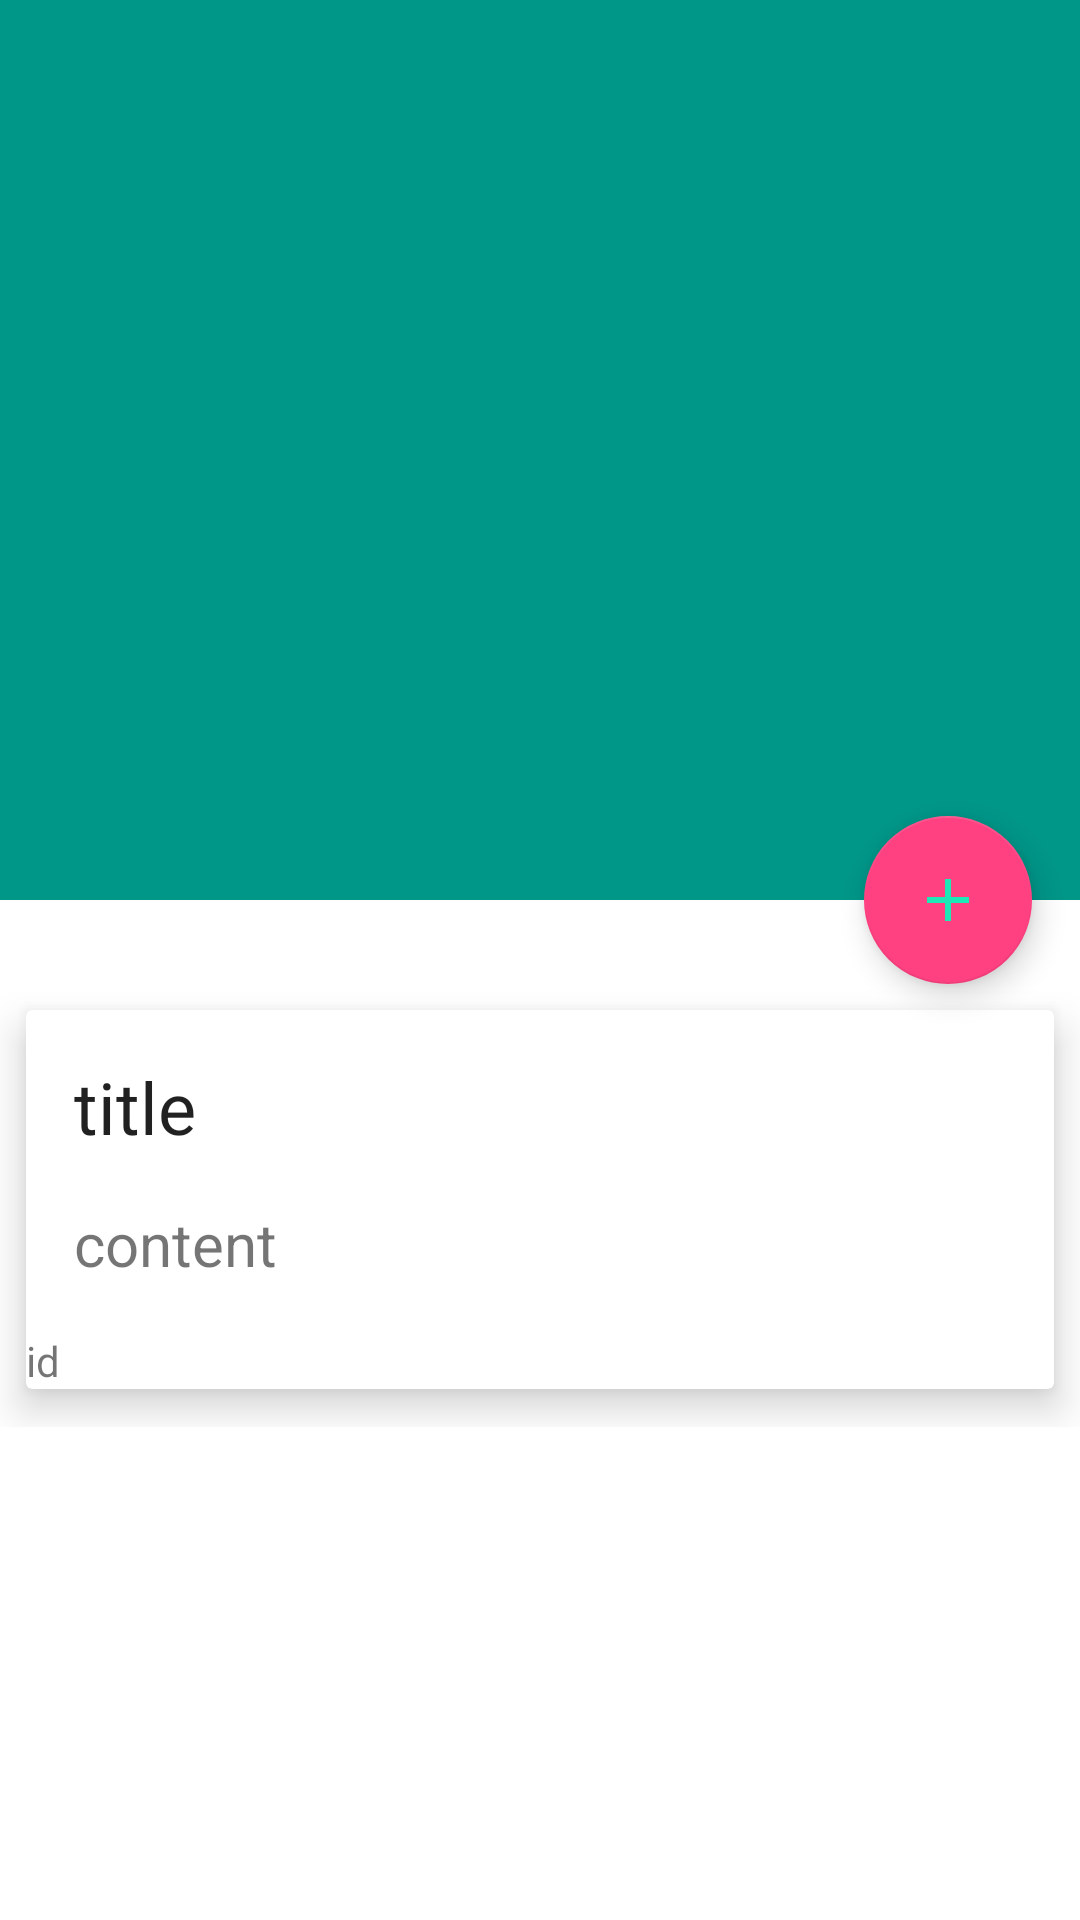

Named icons in this screenshot (1080*1920) and their centers, [x,y]:
add: [948,900]
